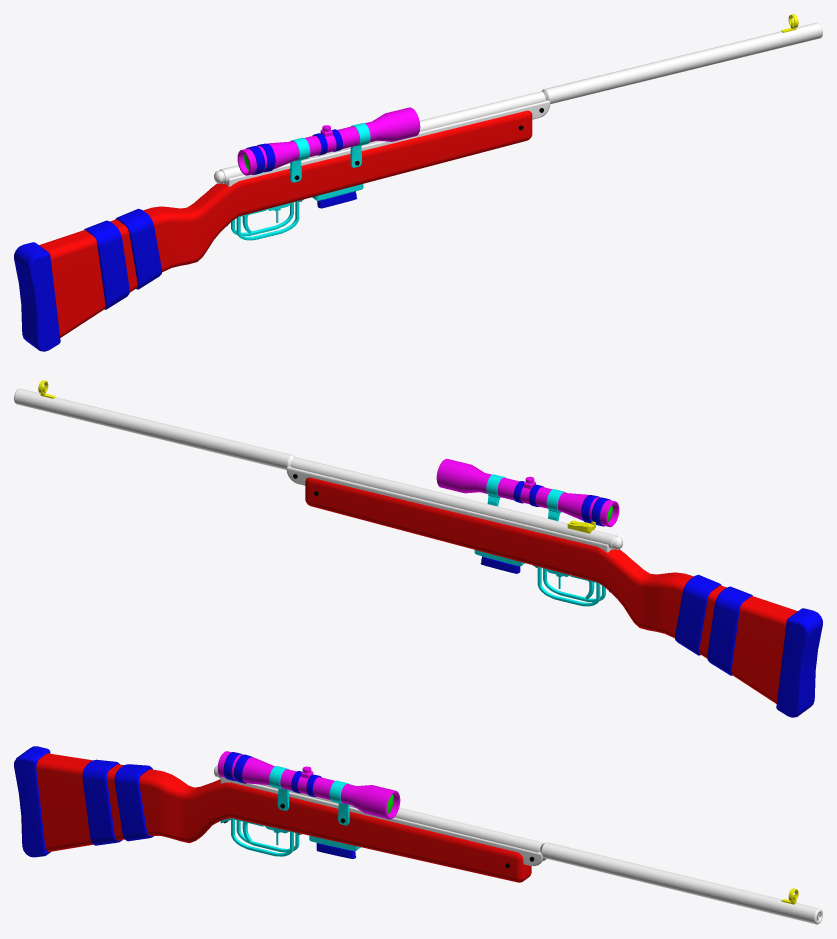
3 views of the same model, one above another, from view 1: azimuth 30°, elevation 25°; view 2: azimuth 150°, elevation 25°; view 3: azimuth 330°, elevation 25° (orthographic).
Visible parts, largest first — view 1: stock, bands2, barrel_2, barrel, scope, metal2; view 2: stock, bands2, barrel, barrel_2, scope, metal2; view 3: stock, bands2, barrel_2, barrel, scope, metal2.
Boxes of the visible parts, box(x1,y1,x2,y2) form: stock: box(39, 110, 532, 337); bands2: box(14, 129, 357, 351); barrel_2: box(541, 22, 822, 103); barrel: box(214, 91, 550, 186); scope: box(237, 107, 420, 175); metal2: box(228, 123, 370, 240); stock: box(305, 477, 797, 703); bands2: box(480, 481, 822, 717); barrel: box(286, 457, 622, 552); barrel_2: box(14, 388, 295, 469); scope: box(436, 458, 619, 527); metal2: box(474, 474, 608, 606); stock: box(36, 753, 531, 882); bands2: box(14, 746, 355, 858); barrel_2: box(540, 842, 822, 924); barrel: box(214, 765, 546, 866); scope: box(217, 751, 400, 819); metal2: box(220, 766, 360, 856).
Bounding box in the file's own units: 2 × 0.3813 × 0.112.
